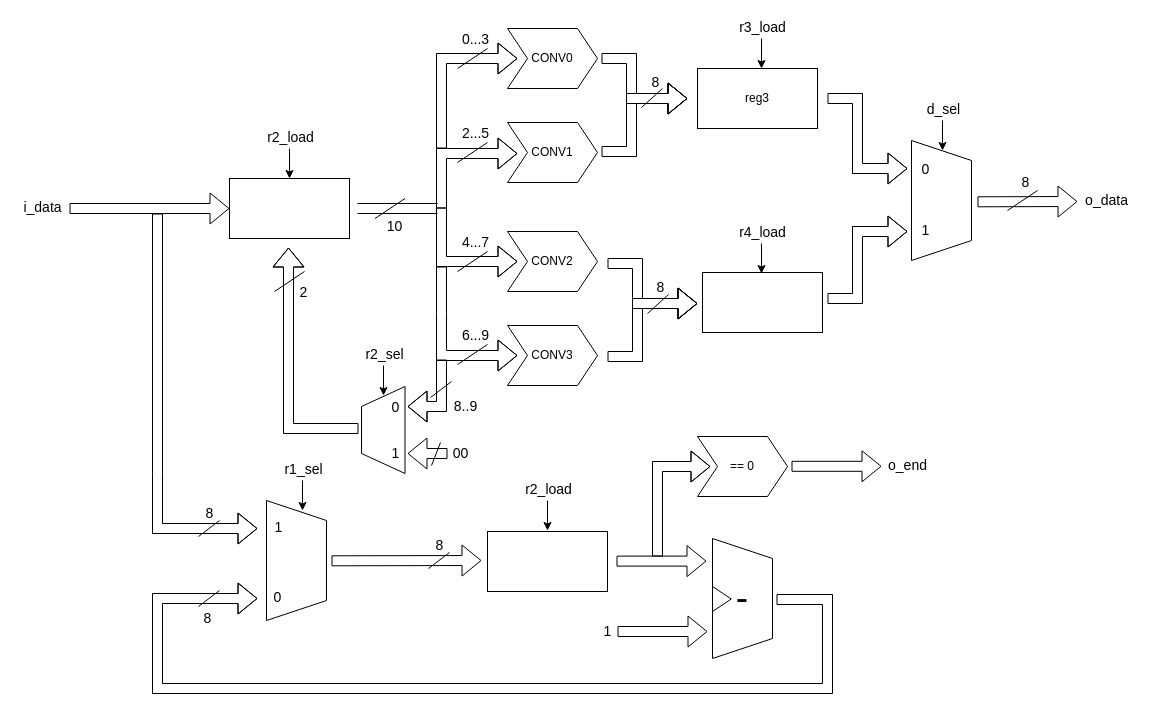
Some shapes in this 1153 by 711 pixel diagram are drawn without their labels. Each missing label, with the box of its shape:
reg1: (486, 530, 608, 592)
reg2: (228, 178, 350, 238)
reg4: (702, 272, 822, 332)
